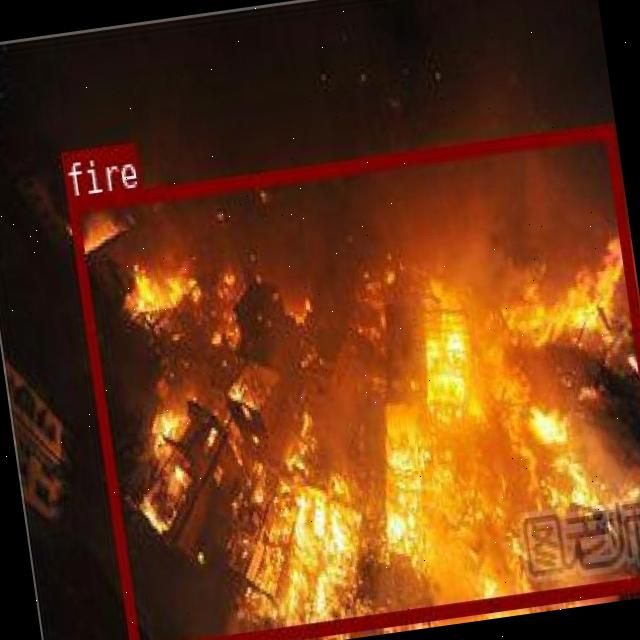fire: (67, 120, 640, 640)
